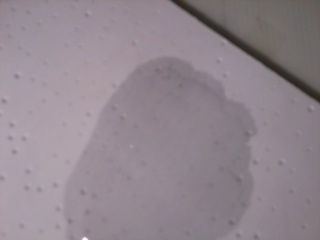Water_detected: (86, 84, 221, 240)
